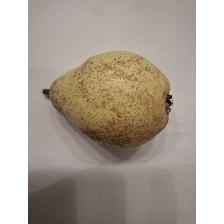Birne: (40, 47, 180, 151)
